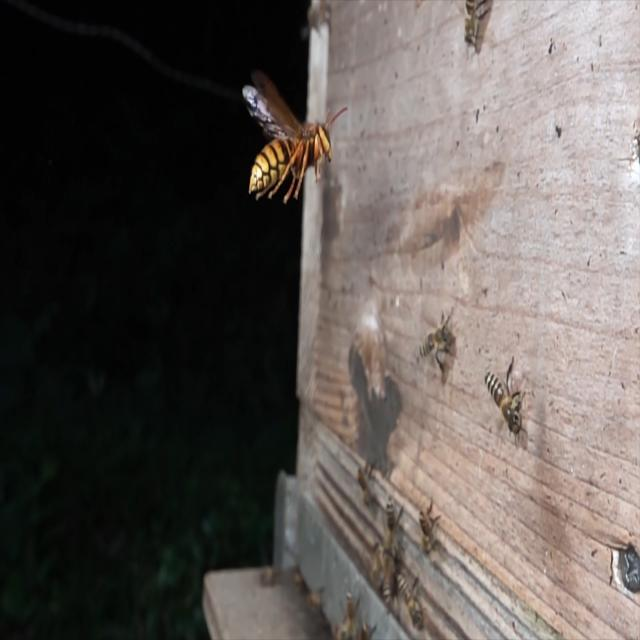Bees: (486, 354, 526, 447), (419, 308, 455, 377), (396, 571, 426, 632), (463, 0, 490, 49), (419, 498, 441, 556)
Hornets: (244, 80, 348, 202)
